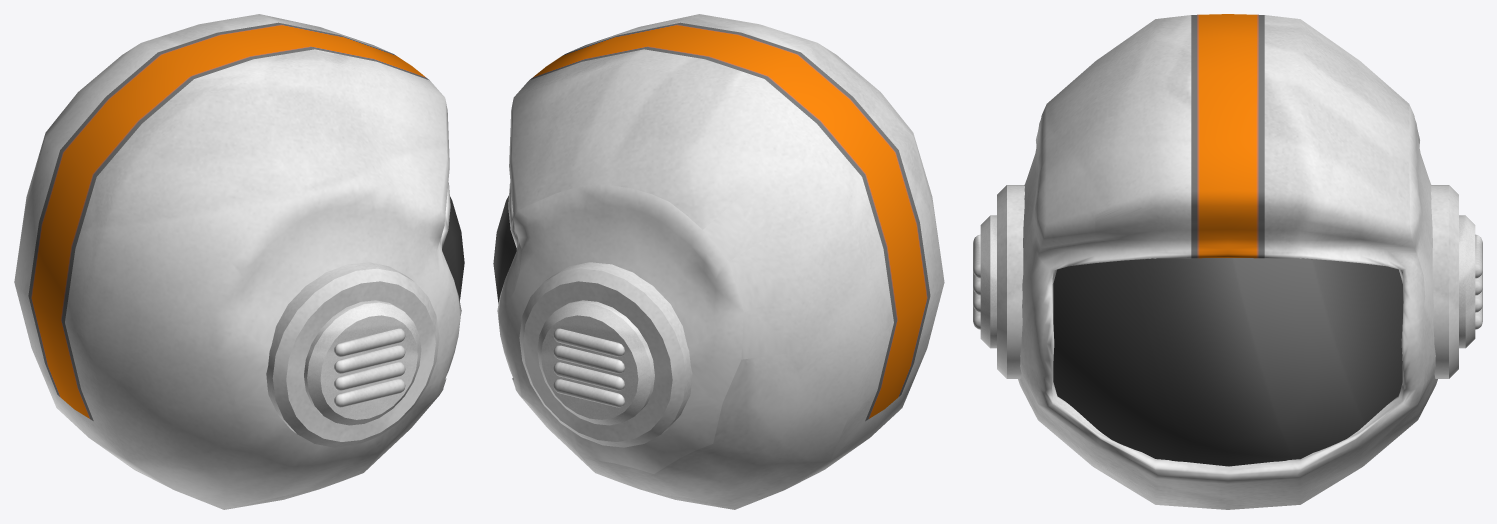
The model's file is human2.obj.
3 views of the same model, side by side, from view 1: azimuth 30°, elevation 25°; view 2: azimuth 150°, elevation 25°; view 3: azimuth 270°, elevation 25° (orthographic).
Parts seen in each view (by area): view 1: Body_casque_ext_.000, Outer_circle_casque_ext_.002, Inner_circle_casque_ext_.001, Bars_casque_ext_.007, Glass.001_casque_ext_.005; view 2: Body_casque_ext_.000, Outer_circle_casque_ext_.002, Inner_circle_casque_ext_.001, Bars_casque_ext_.007, Glass.001_casque_ext_.005; view 3: Body_casque_ext_.000, Glass.001_casque_ext_.005, Outer_circle_casque_ext_.002, Inner_circle_casque_ext_.001, Bars_casque_ext_.007.
Boxes of the visible parts, x1,y1,x2,y2 form: Body_casque_ext_.000: (14, 14, 461, 509); Outer_circle_casque_ext_.002: (266, 262, 439, 447); Inner_circle_casque_ext_.001: (304, 300, 421, 425); Bars_casque_ext_.007: (334, 328, 405, 407); Glass.001_casque_ext_.005: (442, 196, 464, 300); Body_casque_ext_.000: (497, 14, 944, 509); Outer_circle_casque_ext_.002: (519, 262, 692, 447); Inner_circle_casque_ext_.001: (537, 300, 654, 425); Bars_casque_ext_.007: (553, 328, 624, 407); Glass.001_casque_ext_.005: (493, 195, 516, 303); Body_casque_ext_.000: (1018, 14, 1437, 509); Glass.001_casque_ext_.005: (1053, 258, 1403, 466); Outer_circle_casque_ext_.002: (997, 185, 1458, 378); Inner_circle_casque_ext_.001: (980, 215, 1475, 348); Bars_casque_ext_.007: (973, 234, 1482, 329).
Size of the model in its own units: 1.94 by 2.05 by 2.17.
